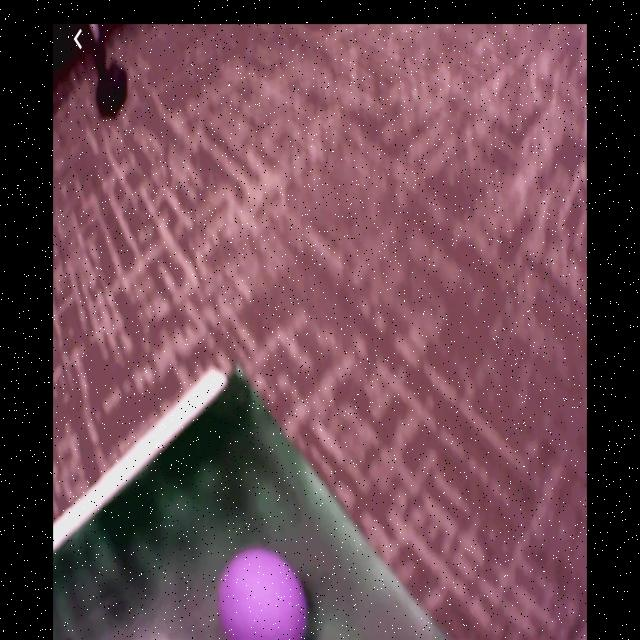ball: (220, 552, 309, 640)
